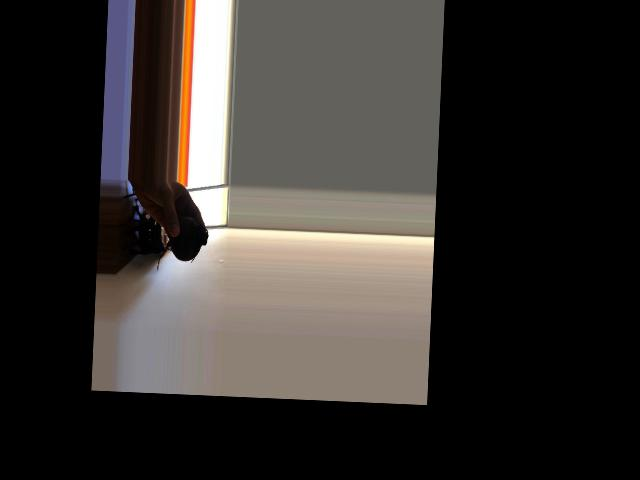beet: (156, 215, 209, 274)
